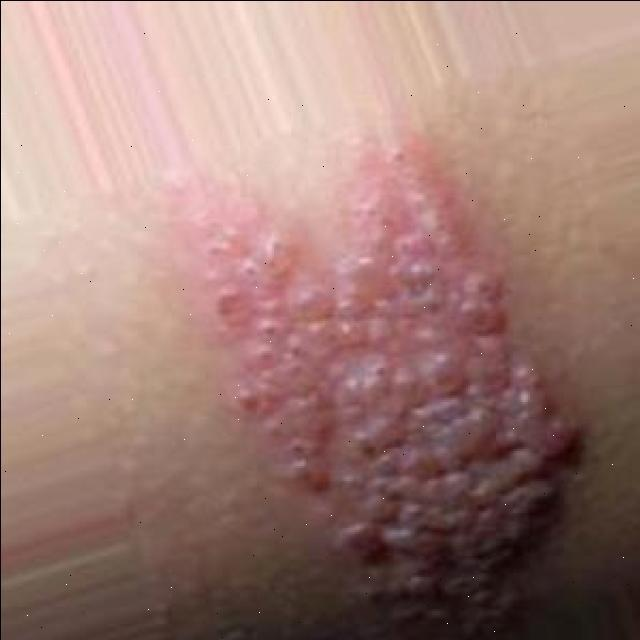Shingles: (192, 140, 581, 602)
